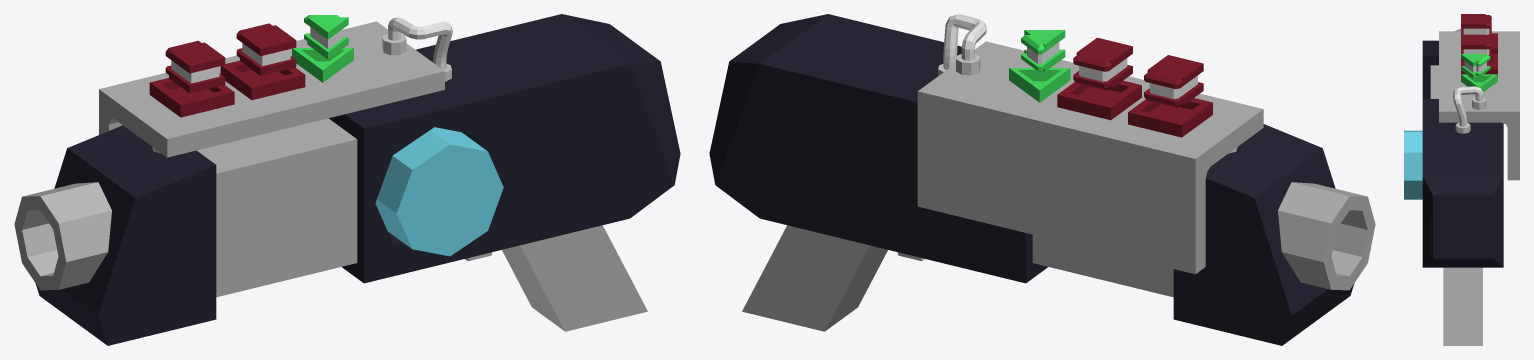
The model's file is Blaster.fbx.
The picture shows the model from 3 angles, left to right: view 1: azimuth 30°, elevation 25°; view 2: azimuth 150°, elevation 25°; view 3: azimuth 270°, elevation 25°; orthographic projection. The views are drawn at different scales.
Visible parts, largest first — view 1: Blaster_BlockOut, Blaster_Model, ReloadModule_Blockout, EffectModuleA_BlockOut, EffectModuleB_BlockOut, Blaster_Export, Wire.001, TriggerModule_BlockOut, EffectModuleB_Smooth, EffectModuleA_Smooth; view 2: Blaster_BlockOut, Blaster_Model, EffectModuleB_Smooth, EffectModuleA_Smooth, Wire.001, EffectModuleA_BlockOut, EffectModuleB_BlockOut, TriggerModule_BlockOut, TriggerModule_Smooth; view 3: Blaster_BlockOut, Blaster_Model, ReloadModule_Blockout, Wire.001, EffectModuleB_BlockOut, EffectModuleA_BlockOut, TriggerModule_BlockOut, EffectModuleA_Smooth, TriggerModule_Smooth, ReloadModule_Smooth, EffectModuleB_Smooth, Blaster_Export.
Part boxes in pixels (x1,y1,x2,y2): Blaster_BlockOut: (14, 14, 680, 345); Blaster_Model: (19, 17, 677, 342); ReloadModule_Blockout: (385, 130, 503, 256); EffectModuleA_BlockOut: (169, 42, 225, 93); EffectModuleB_BlockOut: (240, 25, 296, 75); Blaster_Export: (375, 127, 475, 239); Wire.001: (388, 17, 452, 69); TriggerModule_BlockOut: (307, 17, 348, 59); EffectModuleB_Smooth: (236, 23, 285, 67); EffectModuleA_Smooth: (165, 40, 214, 84); Blaster_BlockOut: (709, 14, 1375, 345); Blaster_Model: (717, 17, 1367, 342); EffectModuleB_Smooth: (1073, 44, 1125, 90); EffectModuleA_Smooth: (1144, 61, 1196, 107); Wire.001: (943, 14, 986, 69); EffectModuleA_BlockOut: (1147, 55, 1203, 105); EffectModuleB_BlockOut: (1076, 37, 1132, 88); TriggerModule_BlockOut: (1024, 30, 1065, 71); TriggerModule_Smooth: (1021, 35, 1057, 72); Blaster_BlockOut: (1422, 29, 1519, 345); Blaster_Model: (1422, 31, 1519, 330); ReloadModule_Blockout: (1404, 130, 1422, 199); Wire.001: (1453, 86, 1483, 126); EffectModuleB_BlockOut: (1461, 34, 1485, 60); EffectModuleA_BlockOut: (1461, 14, 1485, 34); TriggerModule_BlockOut: (1461, 54, 1485, 78); EffectModuleA_Smooth: (1469, 15, 1491, 36); TriggerModule_Smooth: (1476, 55, 1490, 77); ReloadModule_Smooth: (1418, 131, 1422, 199); EffectModuleB_Smooth: (1469, 35, 1491, 58); Blaster_Export: (1418, 130, 1422, 164).
Bounding box in the file's own units: 1040 × 554 × 286.
